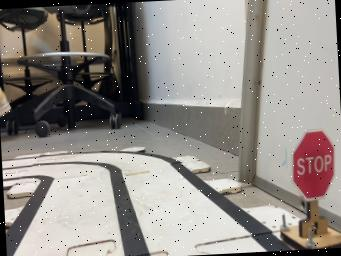stop: (280, 129, 341, 249), (280, 129, 341, 249), (280, 129, 341, 249), (280, 129, 341, 249), (280, 129, 341, 249), (280, 129, 341, 249)
street: (1, 151, 293, 256), (1, 151, 293, 256), (1, 151, 293, 256), (1, 151, 293, 256), (1, 151, 293, 256), (1, 151, 293, 256)
